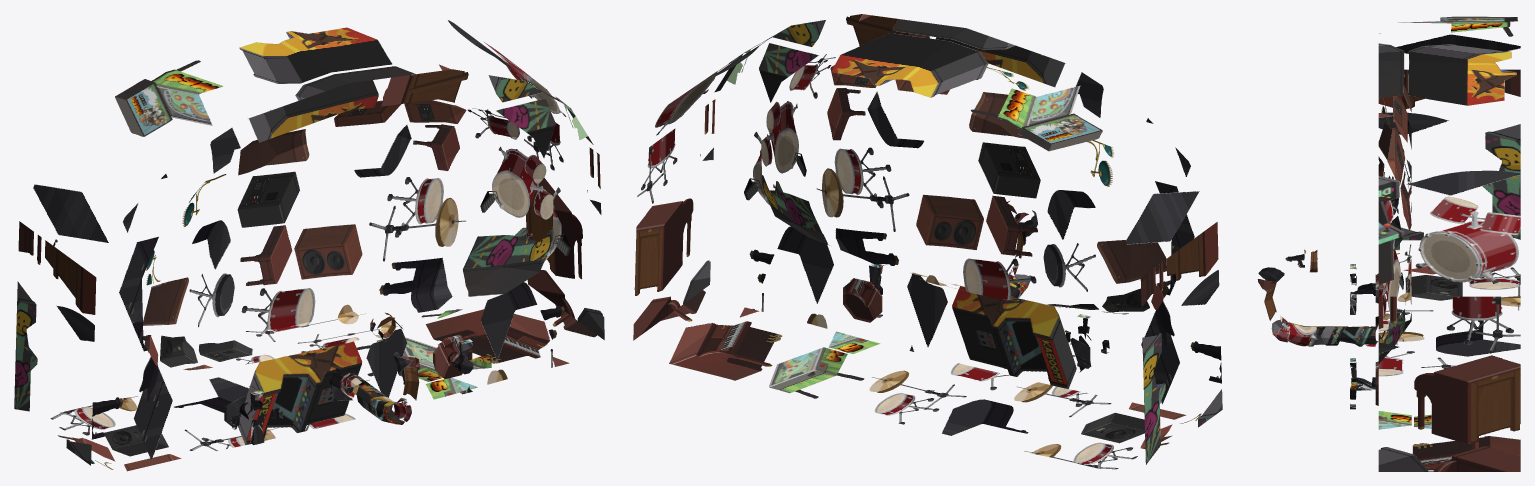
3 renders of one model, left to right at view 1: azimuth 30°, elevation 25°; view 2: azimuth 150°, elevation 25°; view 3: azimuth 270°, elevation 25°, orthographic. The views are drawn at different scales.
Size of the model in its own units: 0.6694 by 0.4205 by 0.3288.
